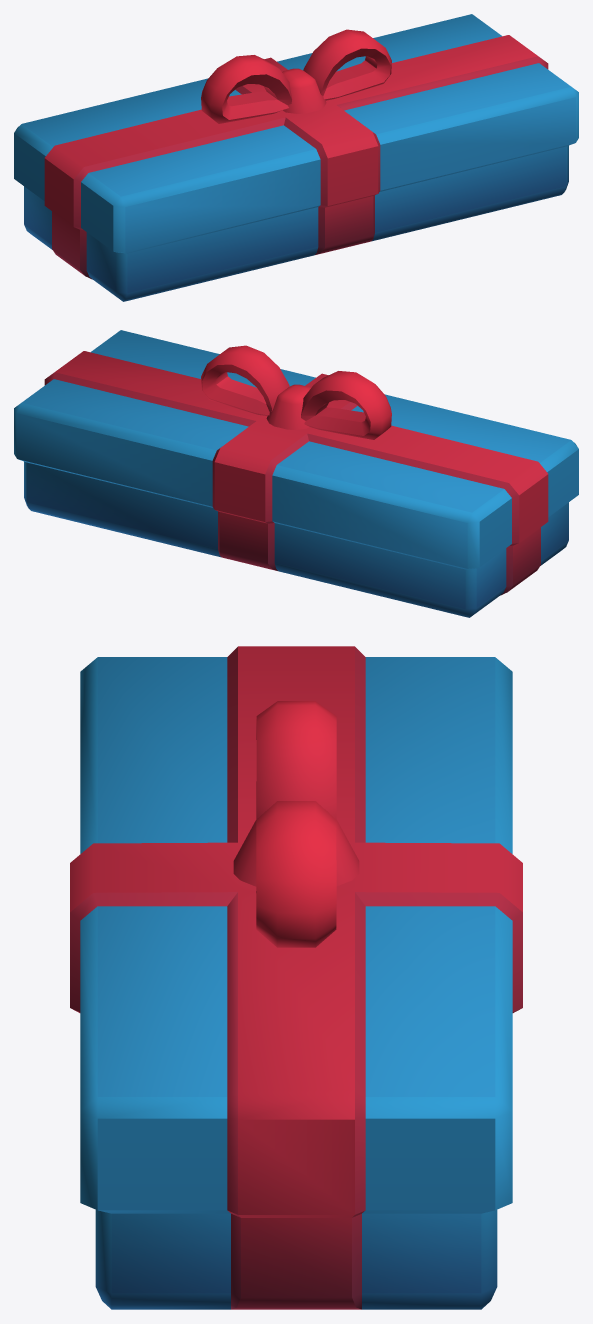
File: present_E_blue.obj
The picture shows the model from 3 angles, top to bottom: view 1: azimuth 30°, elevation 25°; view 2: azimuth 150°, elevation 25°; view 3: azimuth 270°, elevation 25°; orthographic projection. The views are drawn at different scales.
Visible parts, largest first — view 1: present_E_blue; view 2: present_E_blue; view 3: present_E_blue.
Part boxes in pixels (x1,y1,x2,y2): present_E_blue: (14, 14, 578, 301); present_E_blue: (14, 330, 578, 617); present_E_blue: (70, 646, 522, 1309).
Size of the model in its own units: 1.36 by 0.4617 by 0.5638.
Materials: 1 (1 with a texture image).
